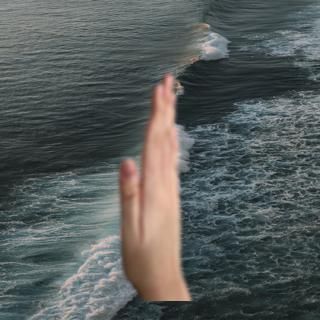Right: (106, 69, 188, 295)
